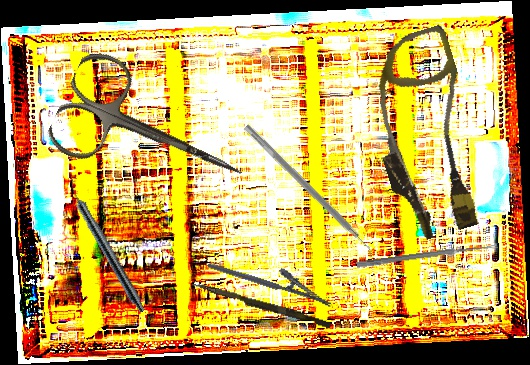Cannula: (350, 23, 502, 246)
Handpiece: (62, 177, 150, 315)
Iris Scissors: (42, 43, 264, 226)
Needle Holder: (206, 245, 339, 309)
Pusher: (190, 281, 332, 329)
Spatula Surgical: (238, 123, 380, 262)
Surgical Spoon: (356, 242, 498, 269)
